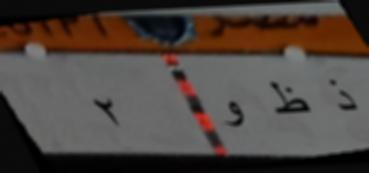2: (90, 97, 126, 130)
Thaa: (267, 78, 314, 122)
waw: (218, 96, 246, 134)
zaal: (321, 72, 360, 123)
